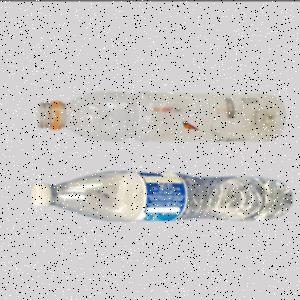Plastic-bottle: (29, 170, 295, 223), (34, 90, 290, 144)
